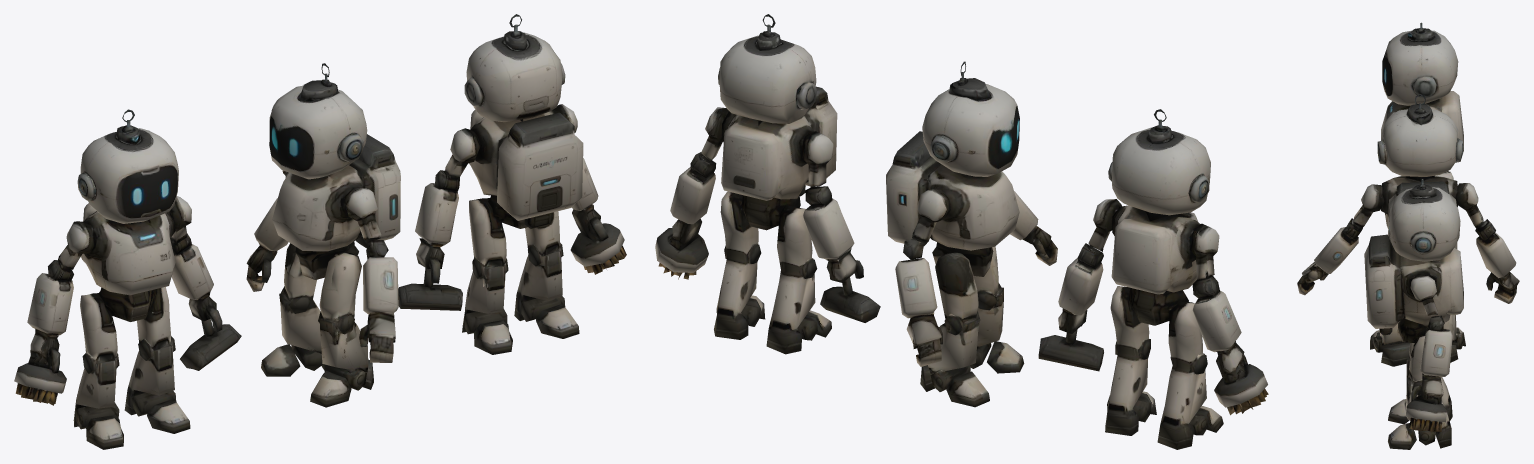
The model's file is 019e01b8-d94c-7942-abdb-c945a4ed300b.fbx.
3 renders of one model, left to right at view 1: azimuth 30°, elevation 25°; view 2: azimuth 150°, elevation 25°; view 3: azimuth 270°, elevation 25°, orthographic. The views are drawn at different scales.
Parts seen in each view (by area): view 1: tripo_node_c899e126-01d8-4d62-aba8-021862f35c90; view 2: tripo_node_c899e126-01d8-4d62-aba8-021862f35c90; view 3: tripo_node_c899e126-01d8-4d62-aba8-021862f35c90.
Part boxes in pixels (bbox=[...]): tripo_node_c899e126-01d8-4d62-aba8-021862f35c90: bbox=[14, 14, 626, 449]; tripo_node_c899e126-01d8-4d62-aba8-021862f35c90: bbox=[655, 14, 1268, 449]; tripo_node_c899e126-01d8-4d62-aba8-021862f35c90: bbox=[1297, 22, 1519, 449].
Bounding box in the file's own units: 99.8 × 50.2 × 38.87.
Materials: 1 (1 with a texture image).
